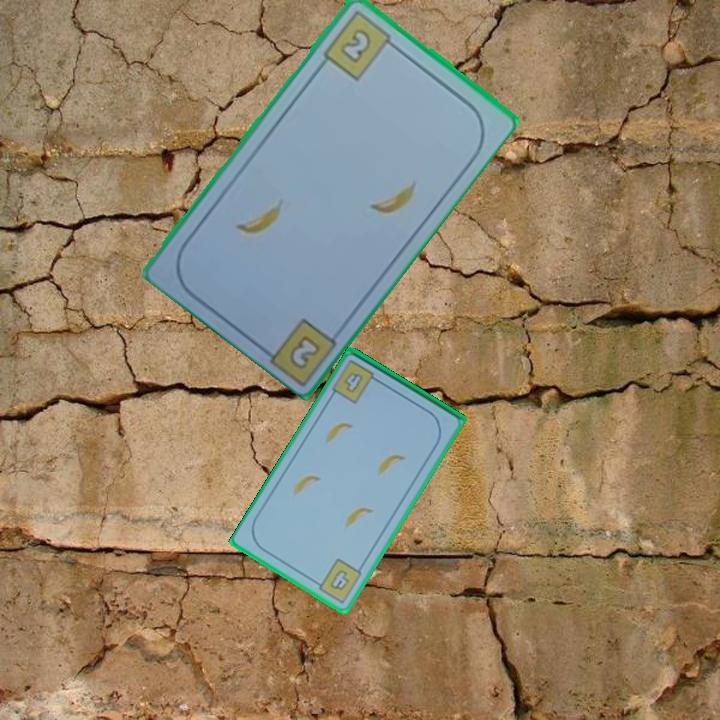2b: (319, 5, 400, 82), (285, 330, 323, 372)
4b: (310, 555, 365, 607), (341, 369, 366, 396)
